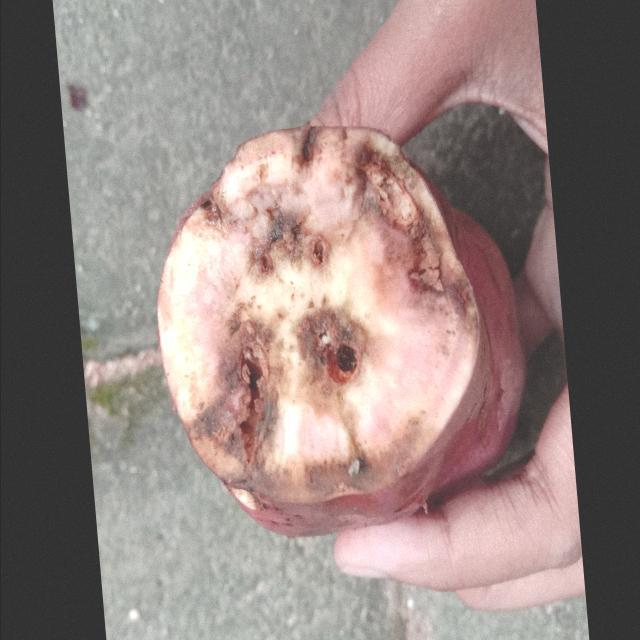Sick Sweet Potato_Tuber Rot: (158, 125, 489, 535)
